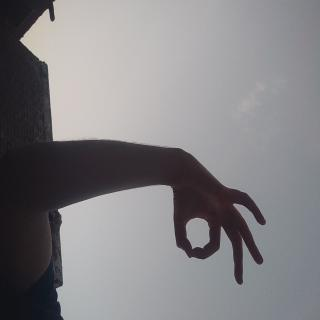Space: (108, 68, 218, 208)
